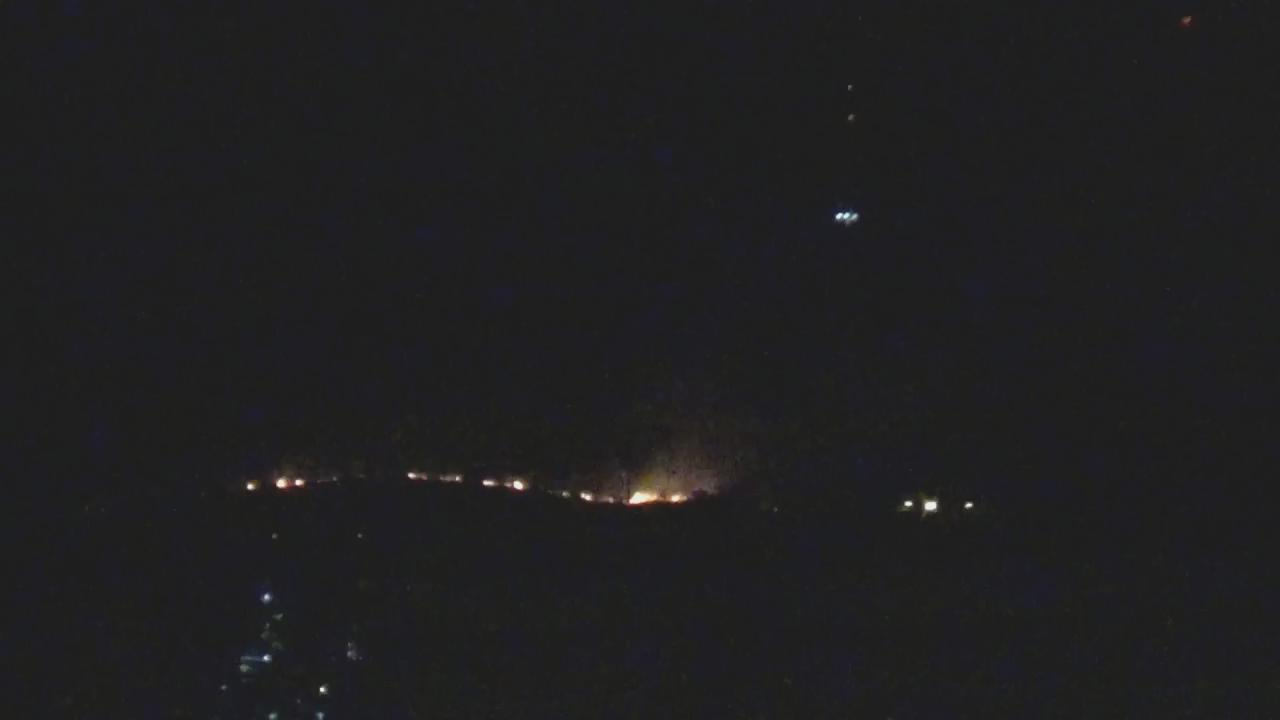Fire: (628, 490, 686, 509), (274, 472, 311, 493), (485, 479, 525, 491), (404, 471, 427, 483), (580, 492, 597, 503)
